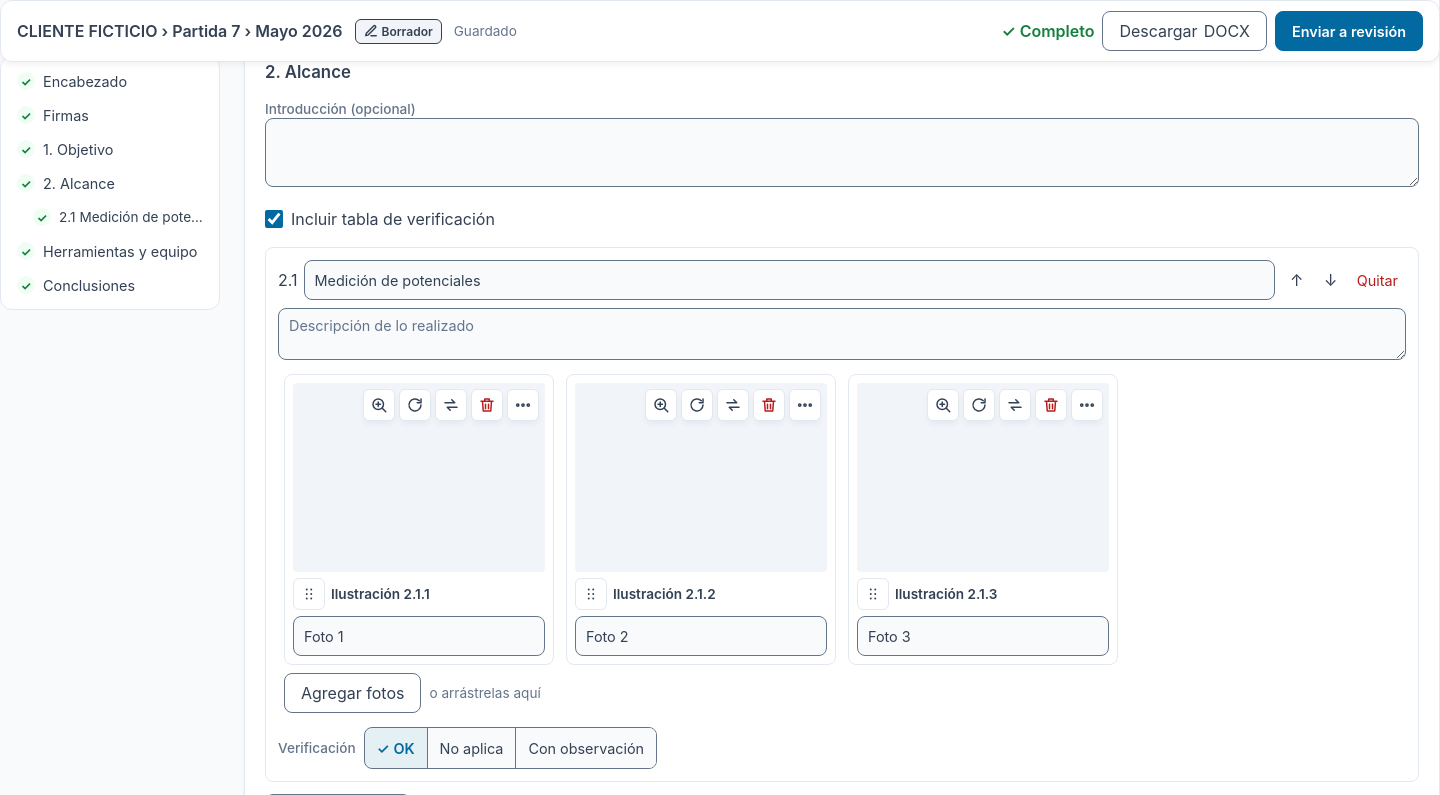
Test case: EditorReporte: vista ampliada y reemplazo de fotos › quitar desde la vista muestra la siguiente y su propio «Deshacer»
The width and height of the screenshot is (1440, 795).
(page scrolled)
Click the 2nd button named "Ampliar la Ilustración 2.1.2": (661, 405) [645,389,677,421]
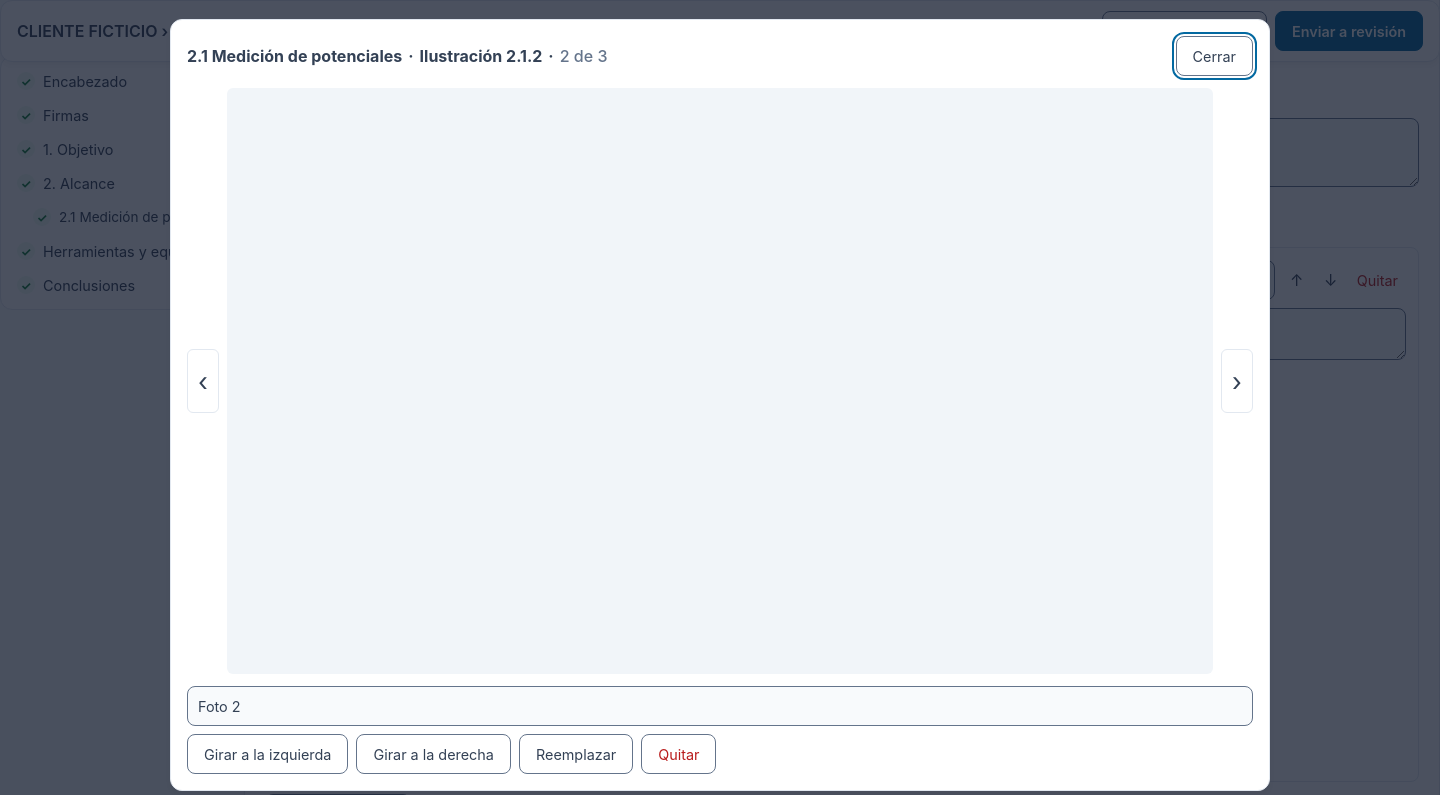
Expected: the dialog shows "2 de 3", [560,46,607,66]
Click the button "Quitar": (679, 754) [641,734,716,774]
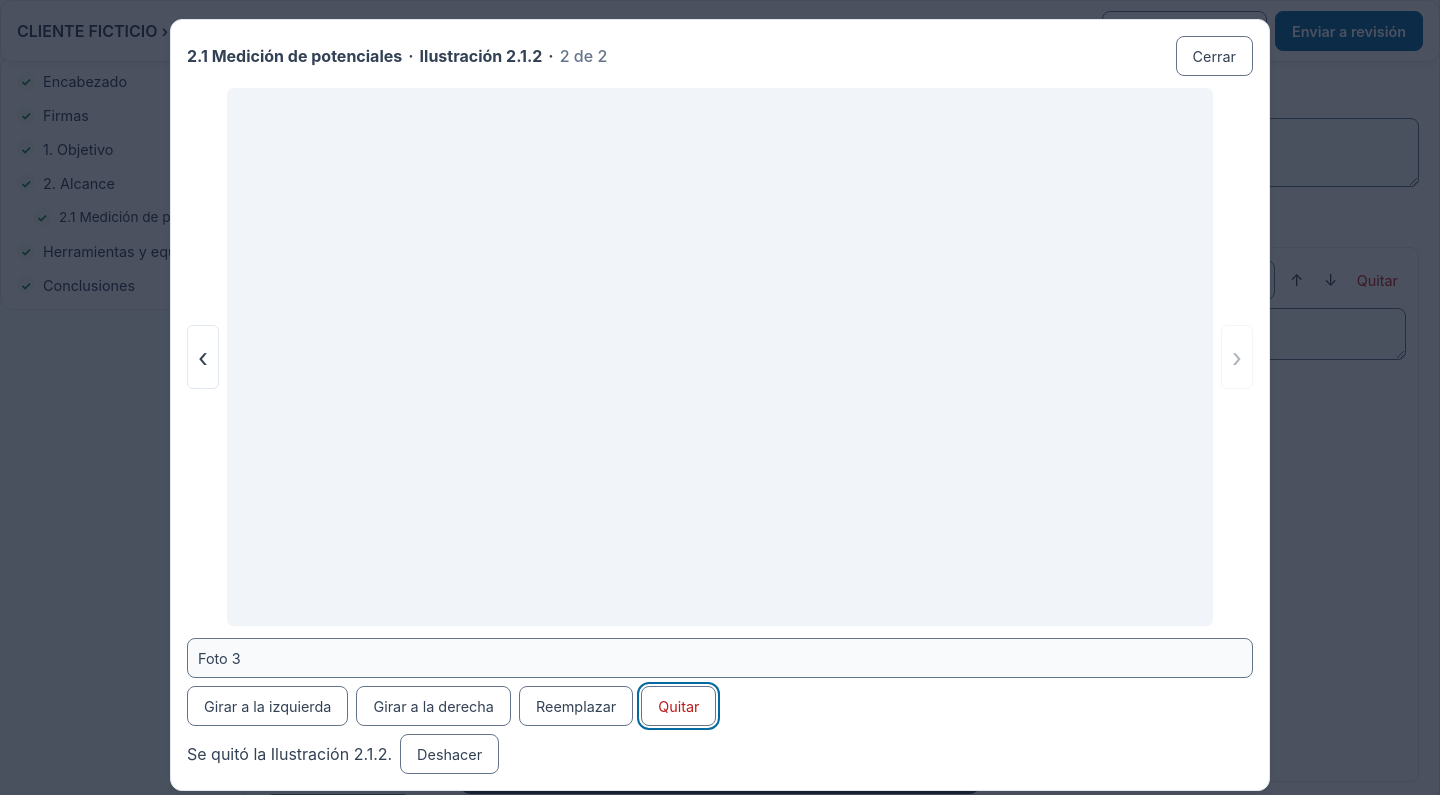
Expected: the dialog shows "2 de 2", [560,46,607,66]
Click the button "Deshacer": (450, 754) [400,734,499,774]
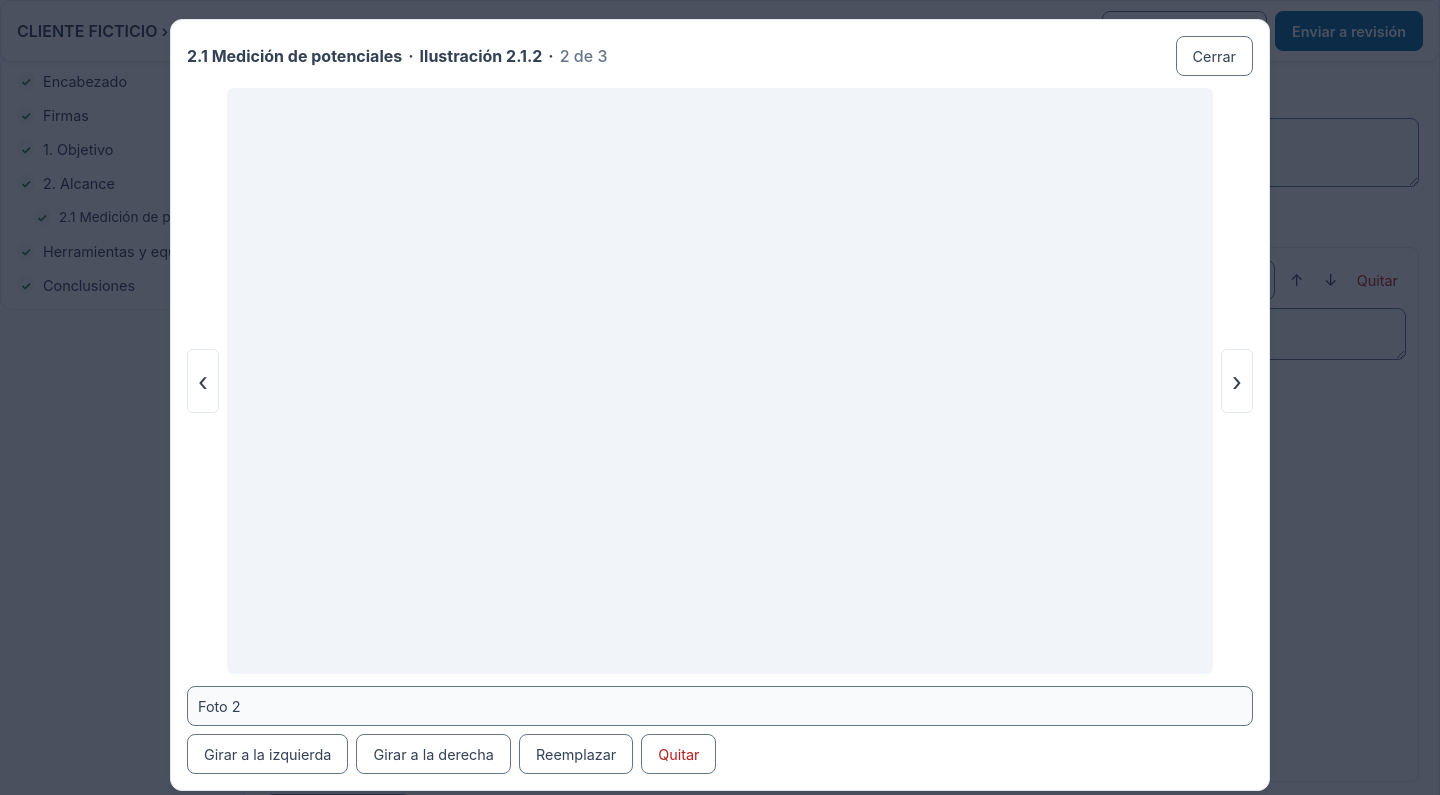
Expected: the dialog shows "2 de 3", [560,46,607,66]
